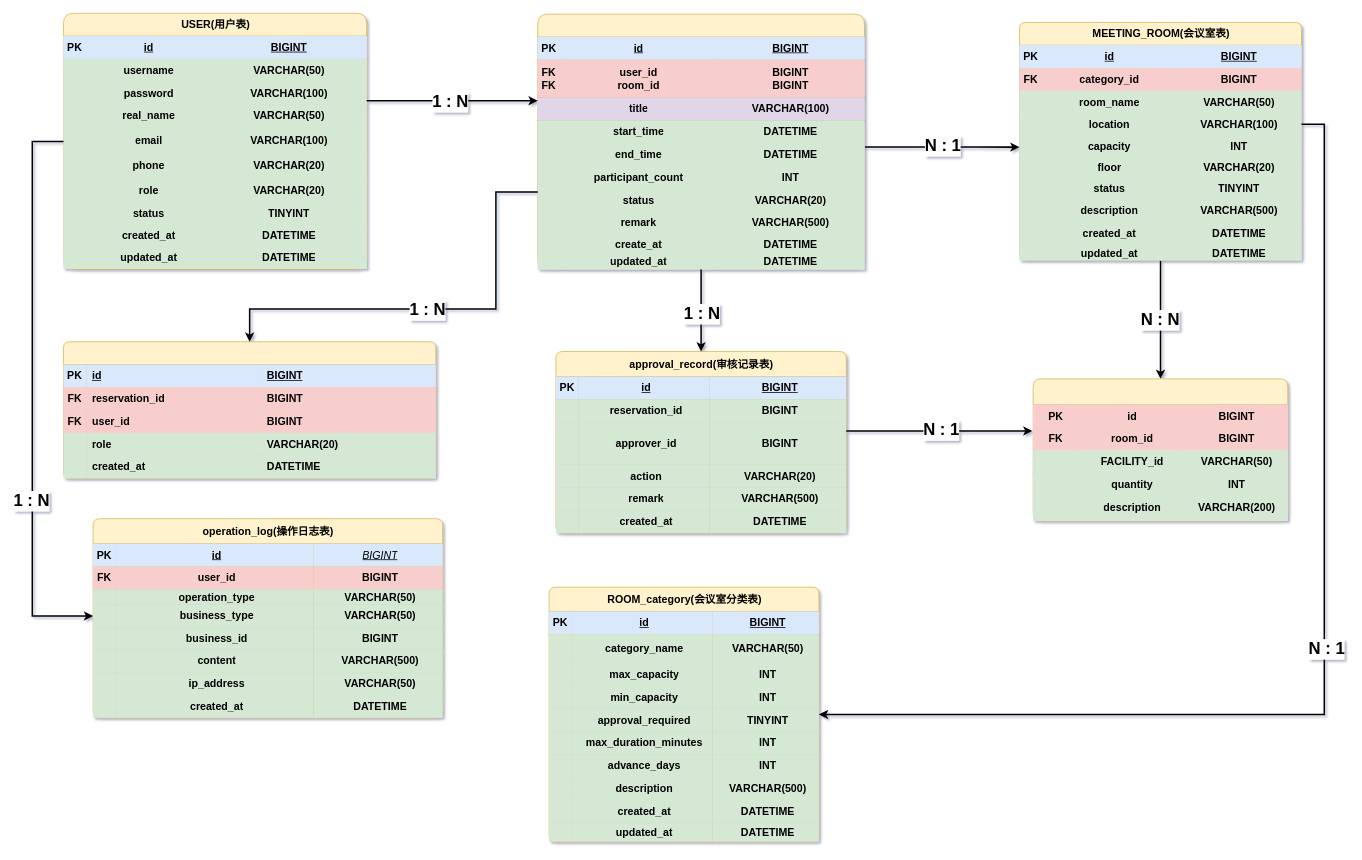
Image size: 1362x860. Some labels were removed from this diagram. The shapes that lost their labels are listed below. From the top down, each one's box as (x1, y1, x2, y2) in pixels, then its label:
(537, 13, 864, 269): RESERVATION(预约表)
(63, 341, 436, 479): reservation_attendee(预约参与人表)
(1032, 378, 1288, 521): ROOM_FACILITY(会议室设施表)
